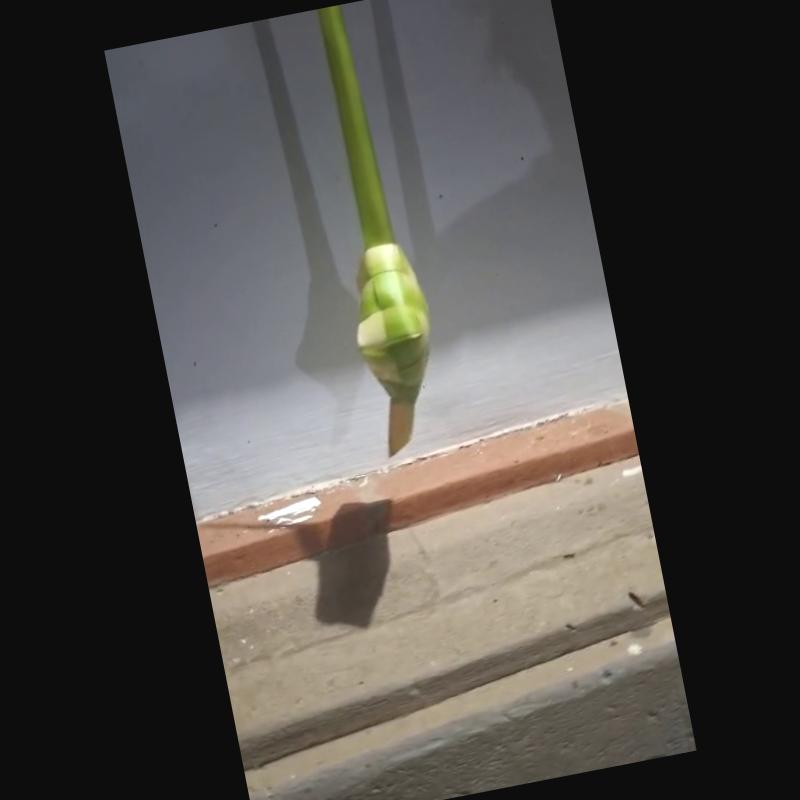Tipat Nasi: (355, 237, 438, 445)
